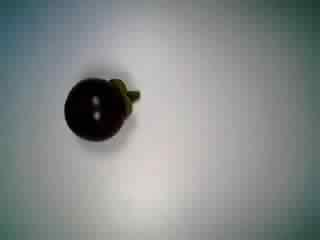mangosteen: (61, 72, 142, 145)
